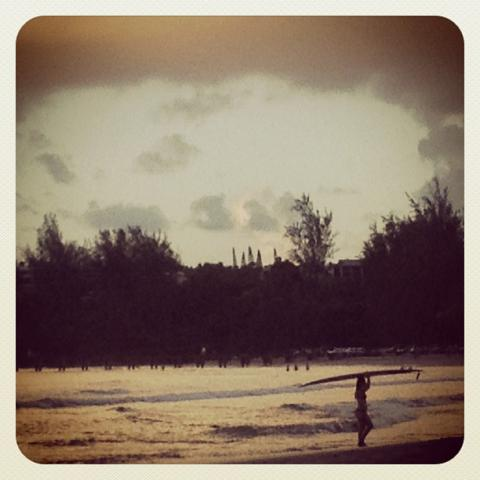car: (386, 344, 408, 353), (342, 348, 364, 357), (411, 344, 429, 355), (327, 348, 340, 358), (430, 344, 442, 354)
